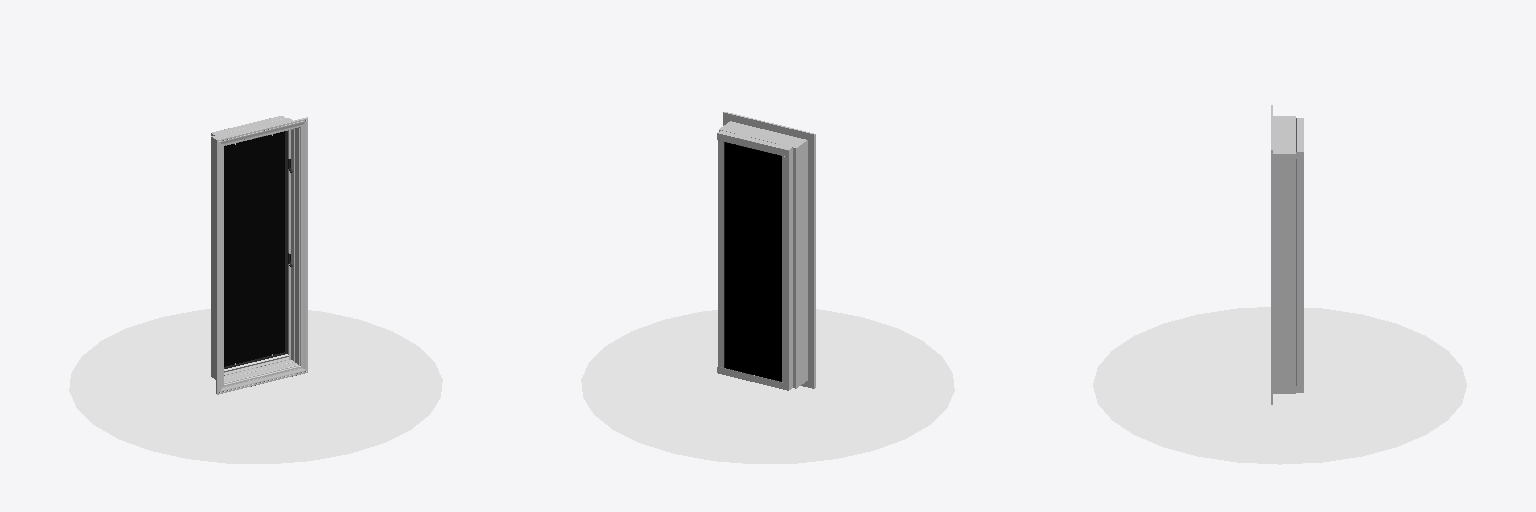
File: WindowsTall.obj
The picture shows the model from 3 angles: view 1: azimuth 30°, elevation 25°; view 2: azimuth 150°, elevation 25°; view 3: azimuth 270°, elevation 25°; orthographic projection.
Parts seen in each view (by area): view 1: ground, screen002, window_trim_interior001, window_surround001, screen_frame002; view 2: ground, glass005, window_frame002, window_surround001, window_trim_interior001; view 3: ground, window_surround001, window_frame002, window_trim_interior001.
Part boxes in pixels (left/top/right/bottom): ground: left=69, top=309, right=442, bottom=463; screen002: left=224, top=131, right=284, bottom=366; window_trim_interior001: left=216, top=117, right=307, bottom=394; window_surround001: left=211, top=118, right=299, bottom=383; screen_frame002: left=224, top=131, right=287, bottom=368; ground: left=581, top=309, right=954, bottom=463; glass005: left=725, top=142, right=781, bottom=381; window_frame002: left=717, top=130, right=792, bottom=390; window_surround001: left=719, top=121, right=807, bottom=388; window_trim_interior001: left=723, top=112, right=815, bottom=388; ground: left=1093, top=307, right=1466, bottom=464; window_surround001: left=1273, top=116, right=1295, bottom=393; window_frame002: left=1296, top=118, right=1303, bottom=392; window_trim_interior001: left=1271, top=105, right=1272, bottom=404.
Bounding box in the file's own units: 96 × 73.28 × 96.